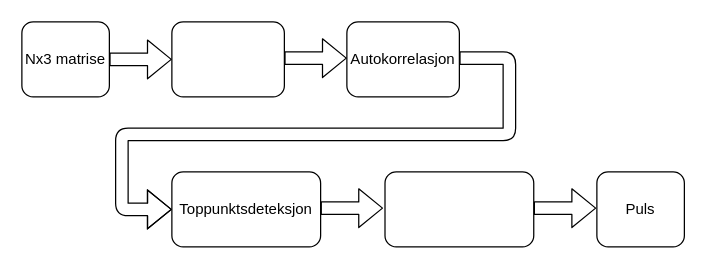
Image size: 706x269. Some labels were removed from this diagram. Each missing label, with the centre of its shape:
"Båndpassfilter" belongs at point 227,59.
"Omregning frekvens til puls" belongs at point 459,209.
